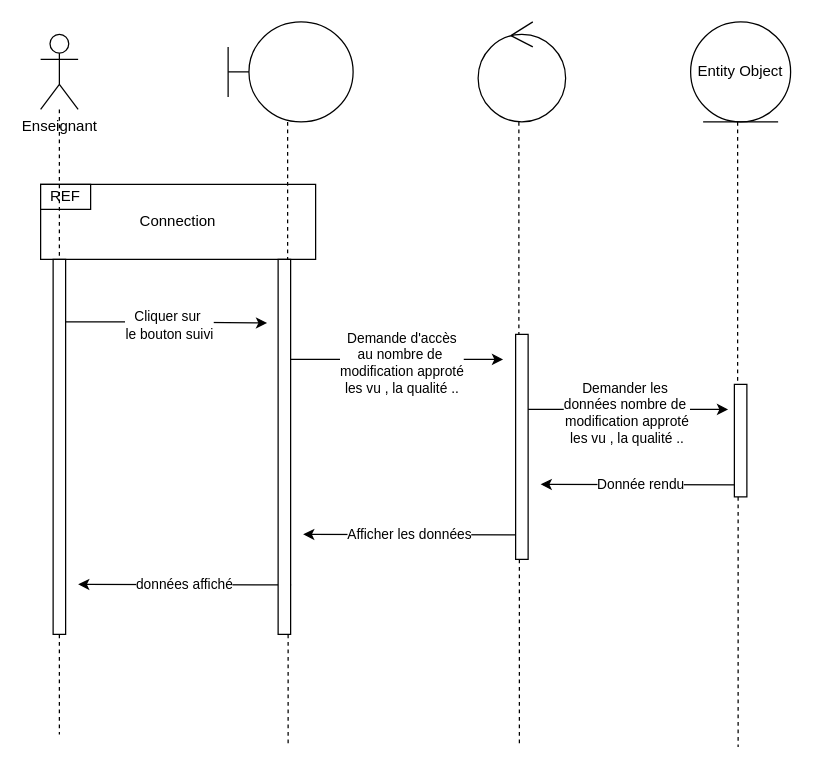
Some shapes in this 813 by 770 pixel diagram are drawn without their labels. The box of each missing label's shape, as (x1, y1, x2, y2) in pixels:
Contrôleur: (477, 21, 566, 122)
Interfaces Tout les document de l'équipe: (227, 21, 353, 122)
